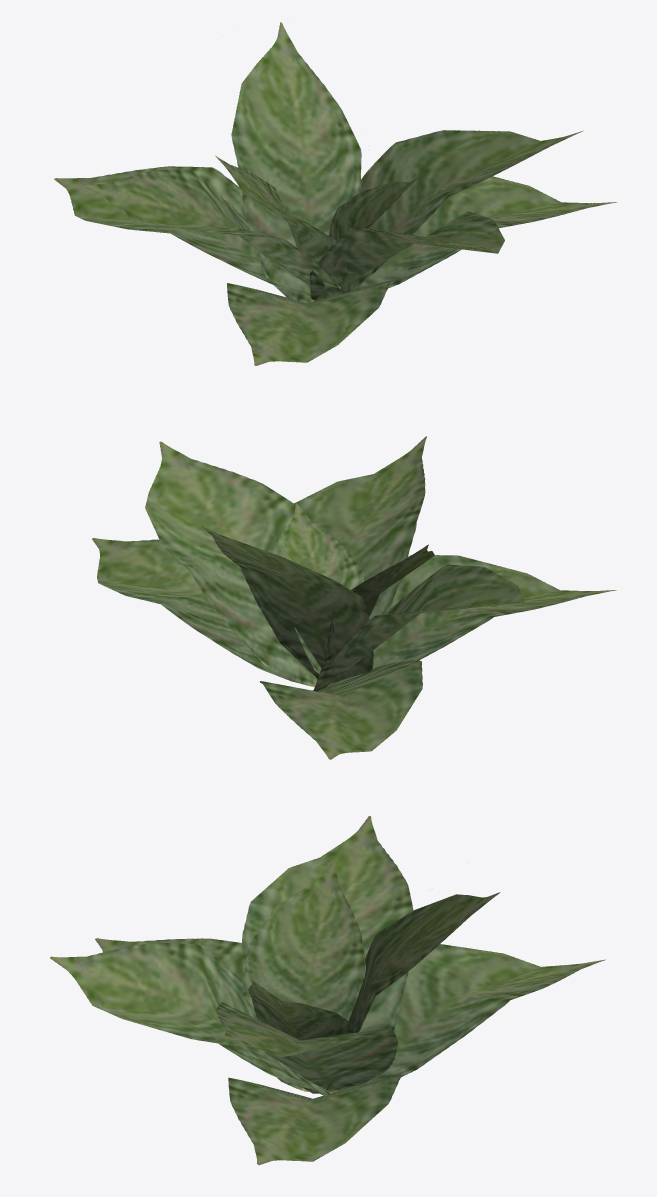
File: detail plant2.FBX
3 renders of one model, top to bottom at view 1: azimuth 30°, elevation 25°; view 2: azimuth 150°, elevation 25°; view 3: azimuth 270°, elevation 25°, orthographic. The views are drawn at different scales.
Parts seen in each view (by area): view 1: detail plant2; view 2: detail plant2; view 3: detail plant2.
Part boxes in pixels (<box>): detail plant2: <box>54,22,617,365</box>; detail plant2: <box>92,436,616,759</box>; detail plant2: <box>50,816,605,1165</box>.
Size of the model in its own units: 5.31 by 2.18 by 5.5.
